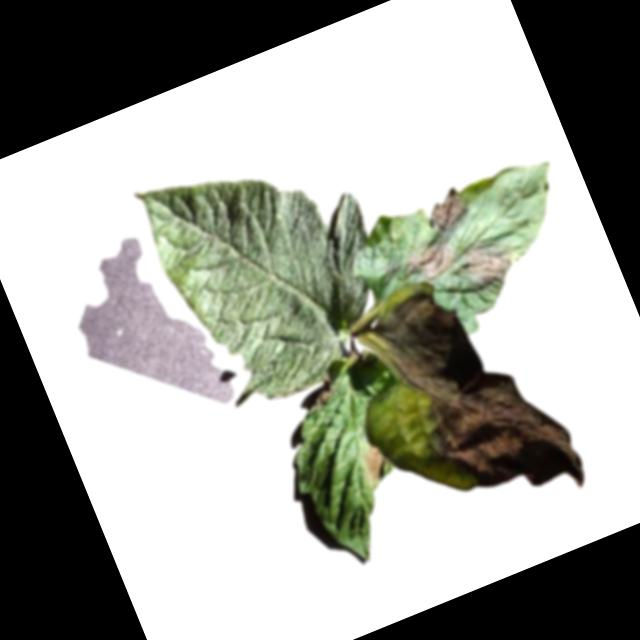Late_blight: (368, 248, 592, 534), (455, 226, 529, 294), (398, 233, 462, 288), (420, 182, 475, 238), (358, 439, 395, 485), (305, 375, 341, 410)
healthy: (130, 114, 415, 422)
